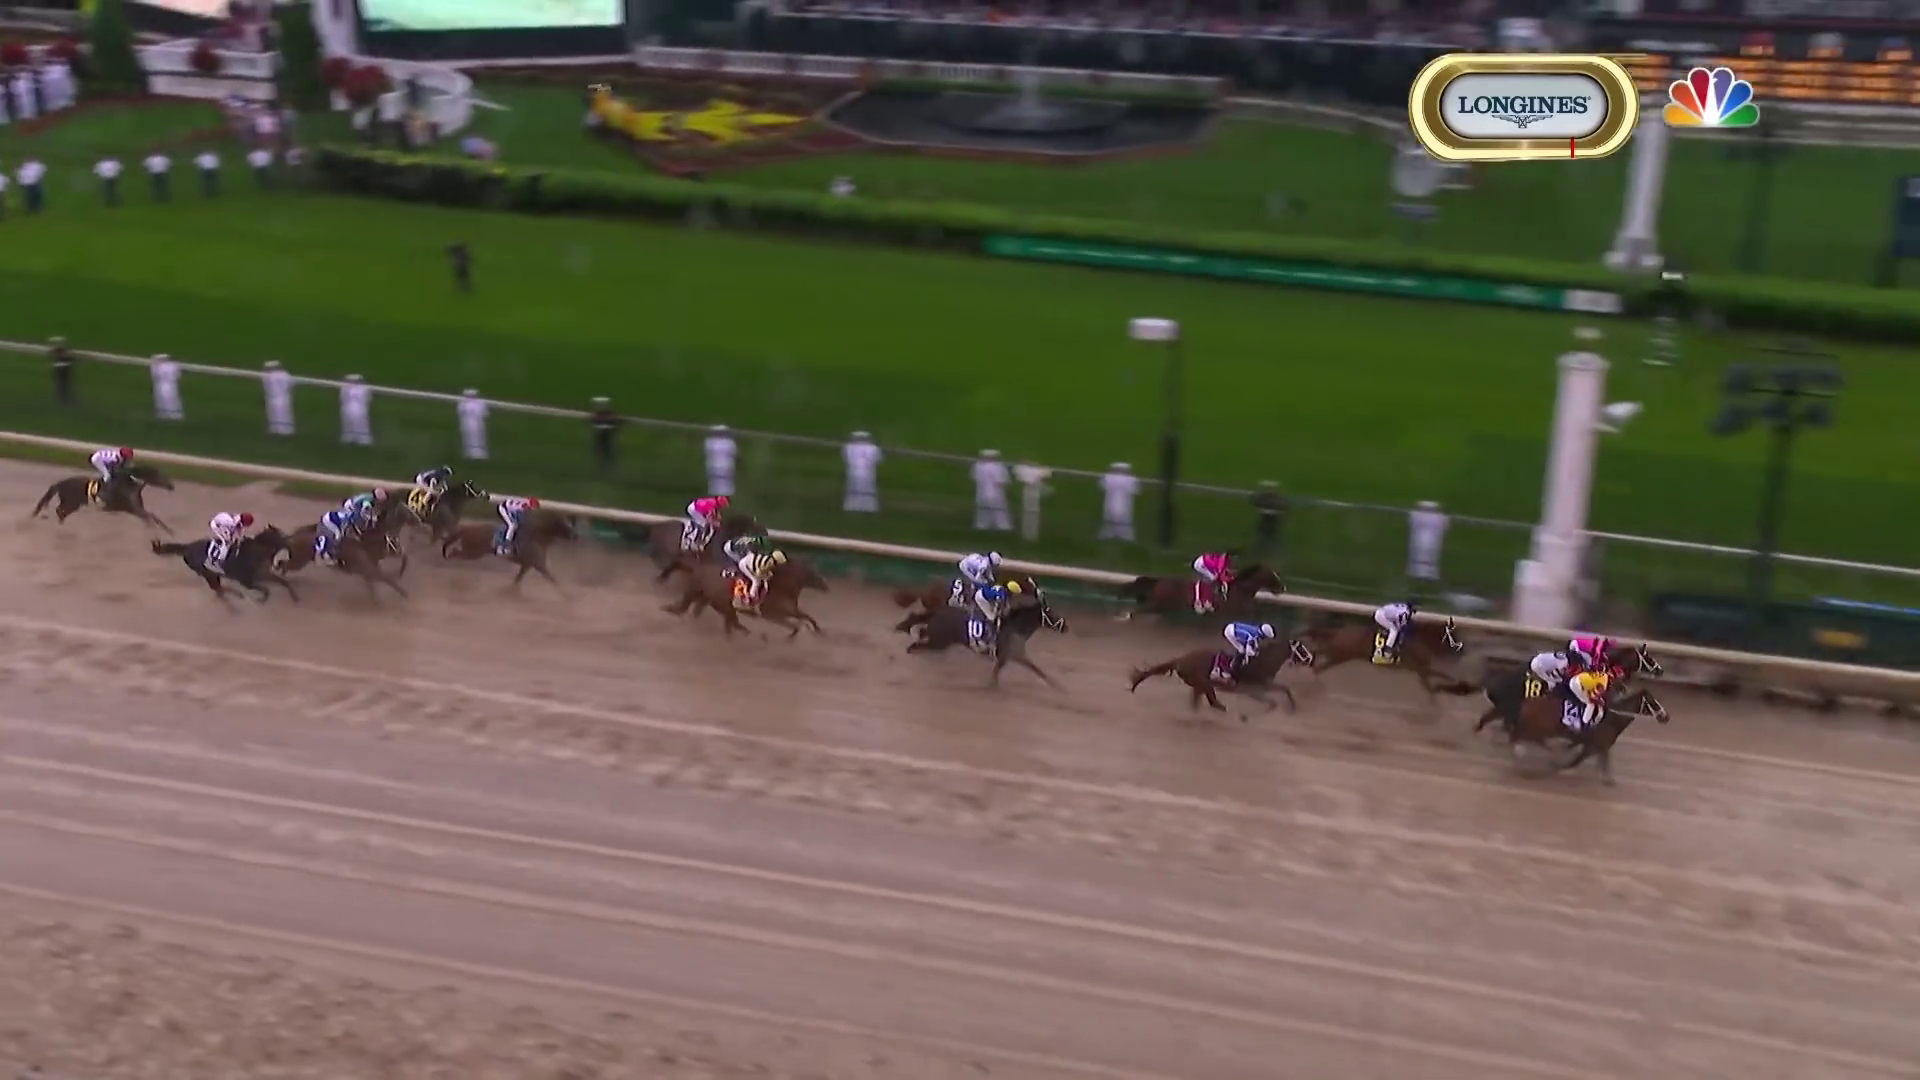jockey: (1221, 622, 1276, 675), (973, 582, 1022, 636), (208, 512, 253, 567), (1568, 669, 1619, 715), (738, 549, 781, 604), (1195, 549, 1240, 597), (1371, 600, 1416, 647), (684, 497, 725, 549), (957, 550, 1007, 588), (498, 498, 535, 550), (1528, 653, 1588, 684), (88, 448, 136, 488), (1565, 636, 1626, 663), (415, 465, 452, 509), (320, 510, 357, 551)
